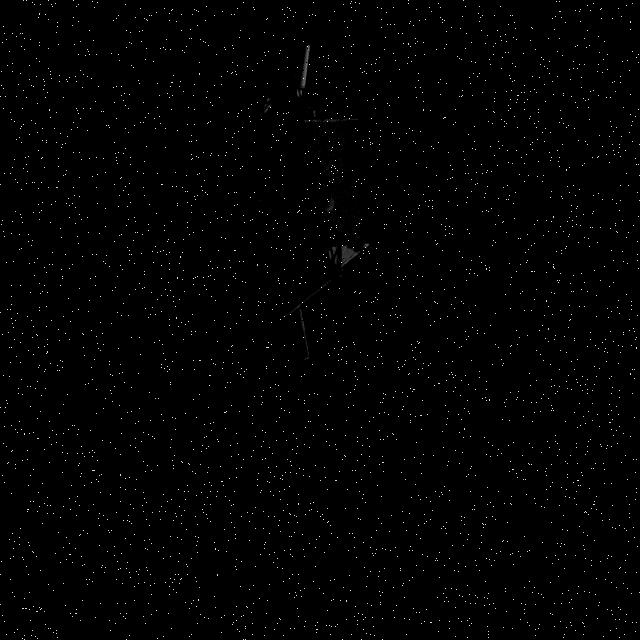medium_debris: (242, 46, 356, 352)
